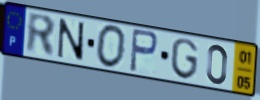0: (205, 44, 229, 87)
G: (169, 37, 199, 82)
N: (56, 17, 86, 64)
O: (95, 23, 128, 71)
P: (128, 27, 160, 75)
R: (25, 10, 57, 59)
